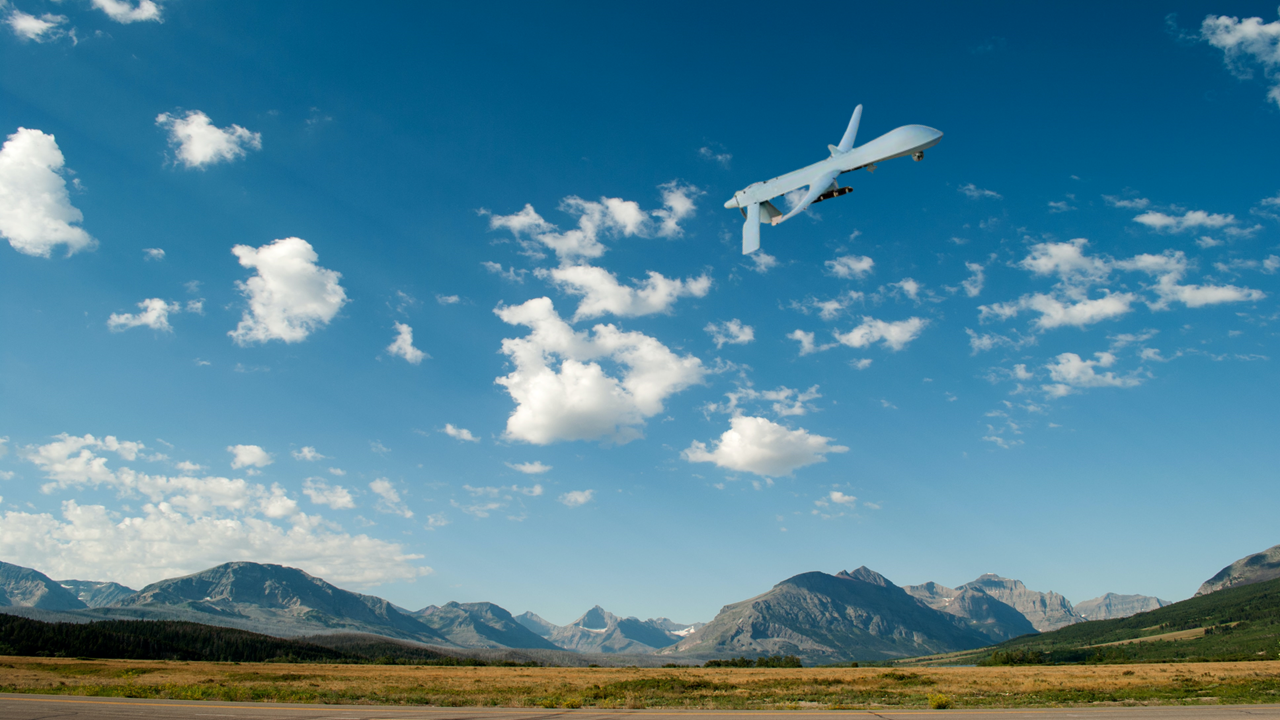military drone: (723, 104, 943, 254)
